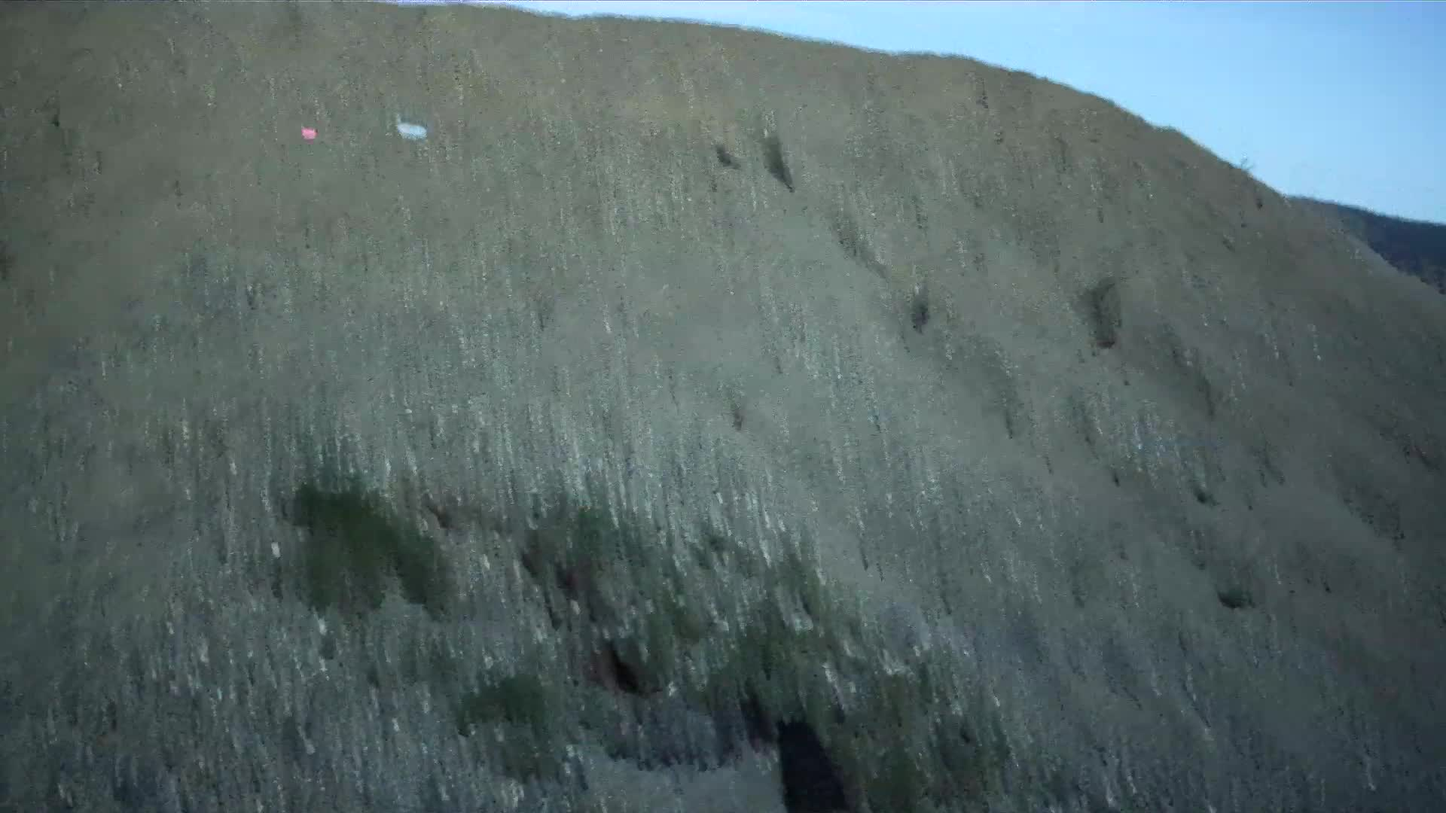Target: (397, 124, 427, 136)
